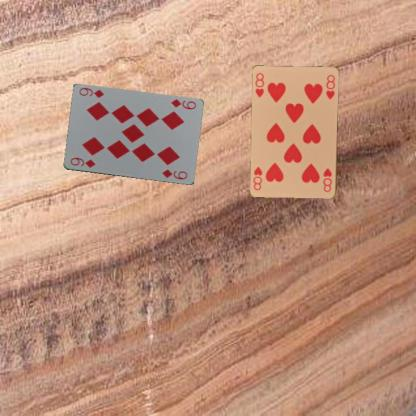8h: (253, 70, 265, 100), (321, 166, 333, 193)
9d: (168, 96, 197, 111), (67, 155, 96, 169)
